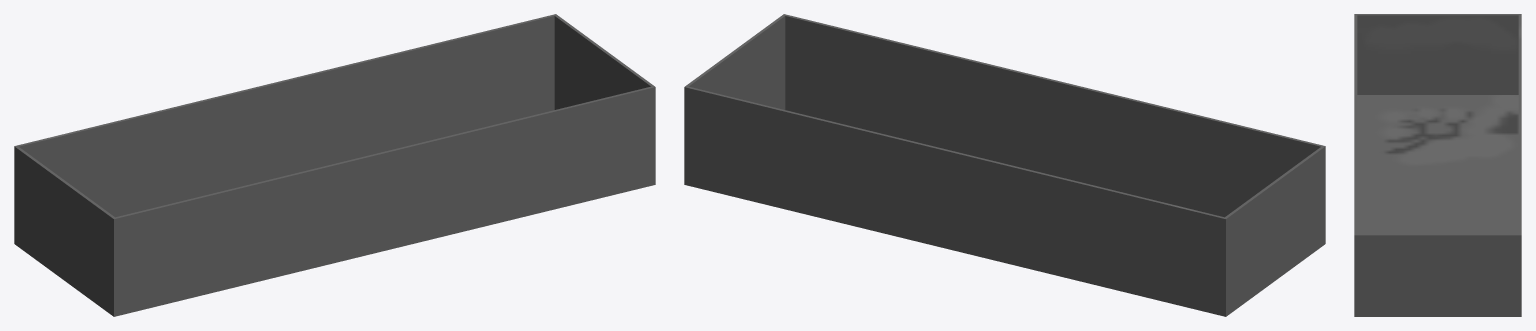
File: Walls&Floor.fbx
3 renders of one model, left to right at view 1: azimuth 30°, elevation 25°; view 2: azimuth 150°, elevation 25°; view 3: azimuth 270°, elevation 25°, orthographic. The views are drawn at different scales.
Parts seen in each view (by area): view 1: Walls&Floor; view 2: Walls&Floor; view 3: Walls&Floor.
Part boxes in pixels (left/top/right/bottom): Walls&Floor: left=14, top=14, right=655, bottom=316; Walls&Floor: left=684, top=14, right=1325, bottom=316; Walls&Floor: left=1354, top=14, right=1521, bottom=316.
Bounding box in the file's own units: 4701 × 810 × 1500.
